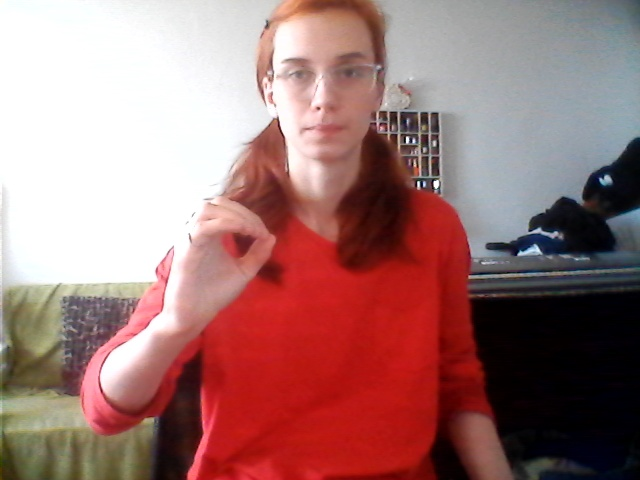o: (165, 187, 293, 343)
